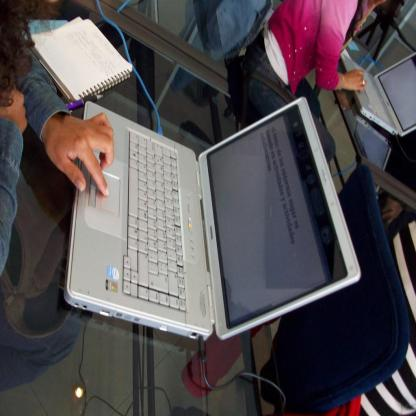board: (63, 96, 361, 342), (341, 53, 416, 136)
